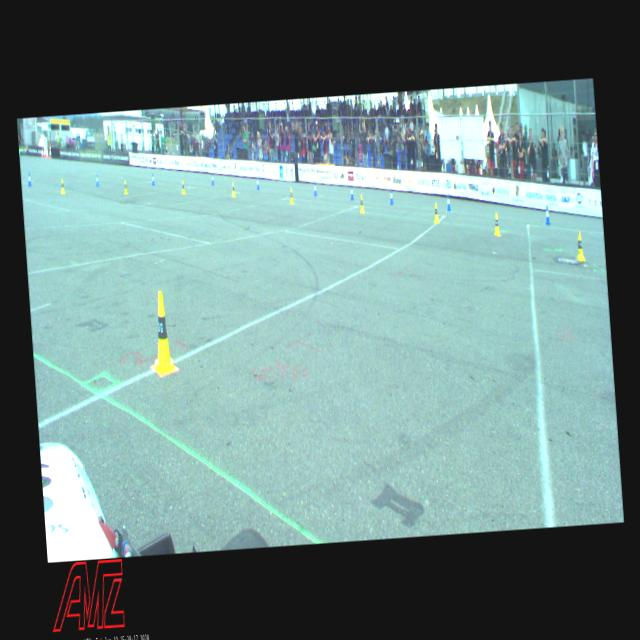blue_cone: (544, 205, 550, 224), (388, 188, 394, 204), (446, 193, 450, 210), (349, 184, 353, 200), (313, 180, 317, 196), (256, 176, 260, 189), (210, 172, 214, 185), (151, 172, 154, 185), (95, 172, 98, 185), (28, 172, 30, 186)
yellow_cone: (147, 290, 177, 375), (575, 232, 584, 260), (492, 212, 500, 236), (433, 202, 439, 222), (358, 194, 364, 213), (230, 180, 236, 197), (288, 186, 293, 204), (60, 178, 64, 194), (181, 180, 185, 193), (123, 180, 127, 193)
